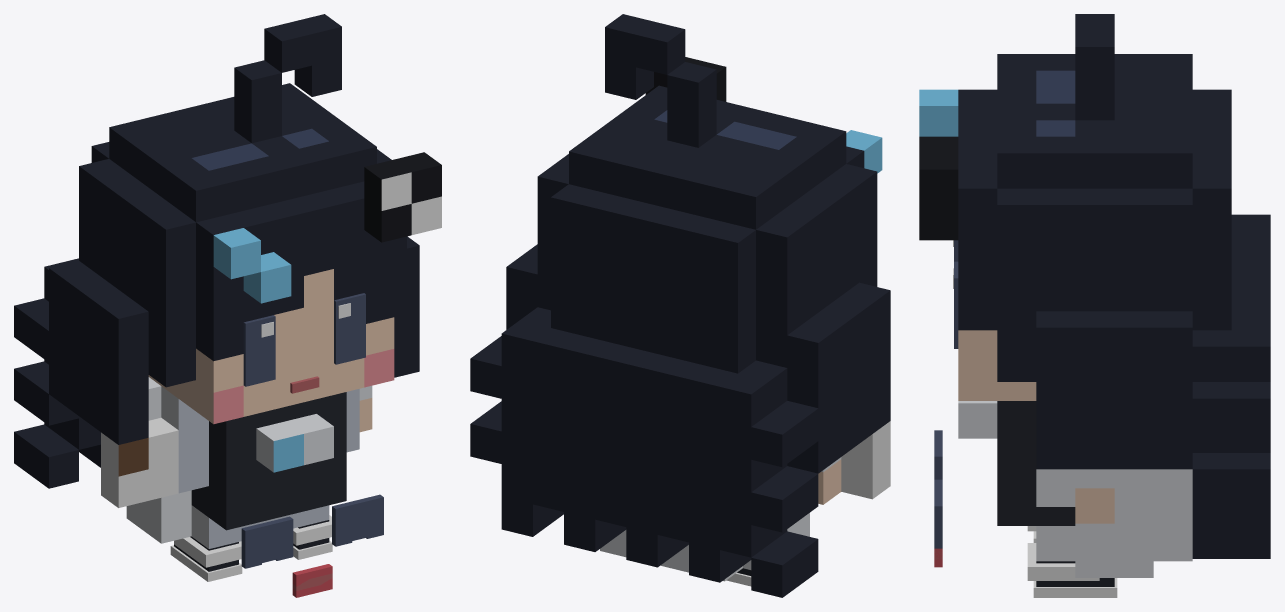
Rendered from glm.glb.
3 views of the same model, side by side, from view 1: azimuth 30°, elevation 25°; view 2: azimuth 150°, elevation 25°; view 3: azimuth 270°, elevation 25° (orthographic). The views are drawn at different scales.
Parts seen in each view (by area): view 1: head, body, hairback, armB, face_open, face_happy, footB, face_tight, footA, armA; view 2: head, hairback, armB, body; view 3: head, hairback, body, footA, armA, face_happy, face_open.
Part boxes in pixels (left/top/right/bottom): head: left=49, top=14, right=441, bottom=444; body: left=126, top=386, right=359, bottom=548; hairback: left=14, top=258, right=100, bottom=488; armB: left=101, top=377, right=178, bottom=507; face_open: left=243, top=293, right=365, bottom=393; face_happy: left=241, top=494, right=383, bottom=597; footB: left=170, top=536, right=242, bottom=581; face_tight: left=243, top=518, right=383, bottom=590; footA: left=293, top=515, right=332, bottom=559; armA: left=359, top=385, right=372, bottom=432; head: left=506, top=14, right=890, bottom=473; hairback: left=470, top=307, right=818, bottom=597; armB: left=818, top=421, right=890, bottom=504; body: left=600, top=513, right=809, bottom=581; head: left=919, top=14, right=1231, bottom=469; hairback: left=1192, top=214, right=1270, bottom=558; body: left=958, top=401, right=1192, bottom=577; footA: left=1027, top=543, right=1117, bottom=597; armA: left=1075, top=469, right=1114, bottom=523; face_happy: left=934, top=430, right=942, bottom=567; face_open: left=953, top=240, right=958, bottom=348.
Bounding box in the file's own units: 0.7 × 1.12 × 0.63.
